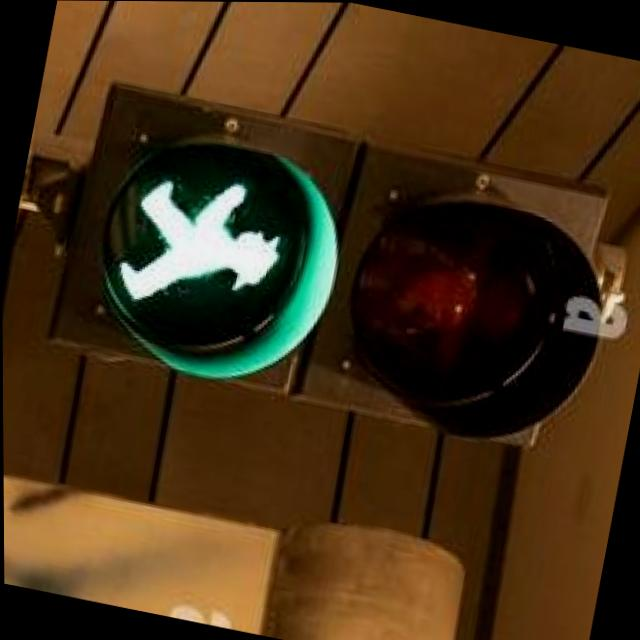green_light: (105, 146, 312, 341)
